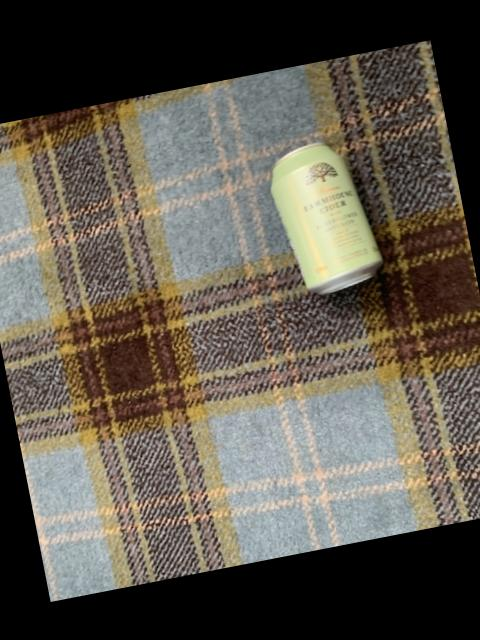metal: (269, 143, 380, 294)
